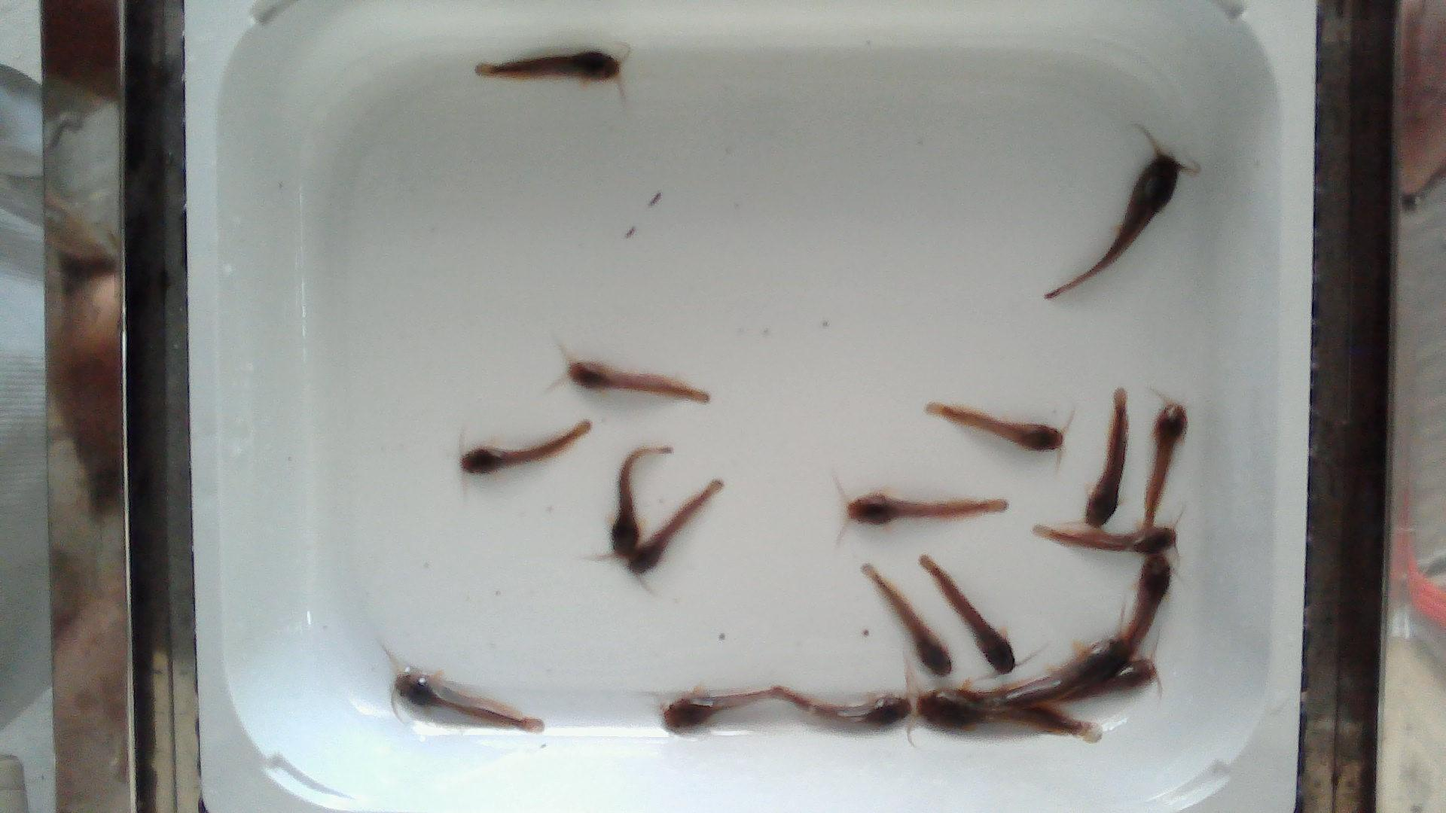lele: (1045, 144, 1183, 298), (920, 555, 1016, 673), (964, 638, 1126, 705), (862, 564, 950, 676), (624, 478, 722, 577), (913, 691, 1104, 741), (395, 668, 544, 732), (608, 445, 671, 562), (460, 419, 591, 473), (926, 403, 1063, 451), (1084, 388, 1127, 527), (568, 361, 709, 402), (1142, 403, 1186, 528), (769, 689, 912, 726), (847, 492, 1007, 524), (664, 684, 783, 727), (1126, 552, 1170, 659), (1050, 657, 1157, 700), (475, 50, 620, 81), (1030, 524, 1179, 554)
